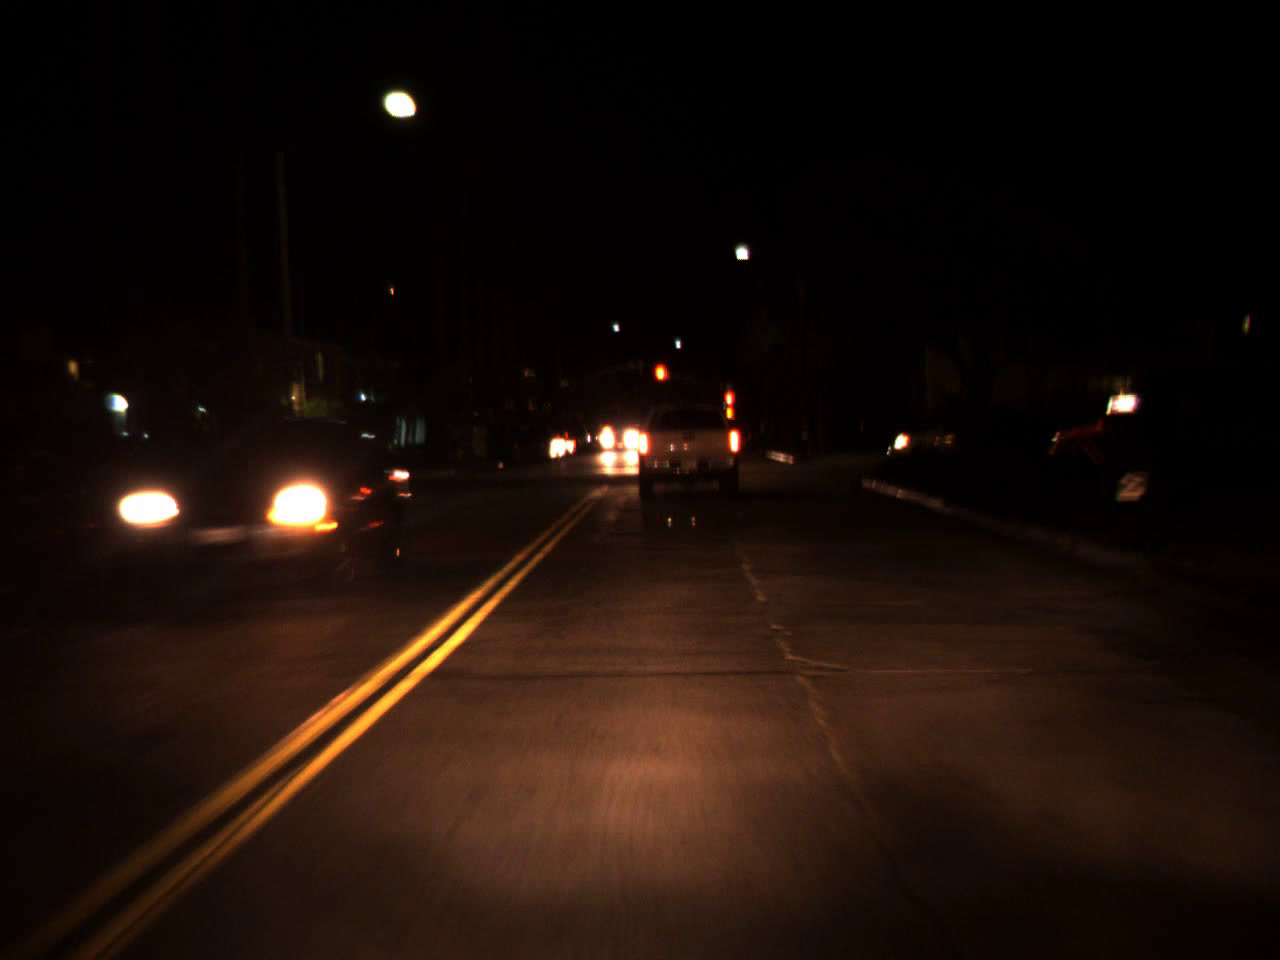stop: (655, 365, 665, 394), (726, 391, 732, 418)
